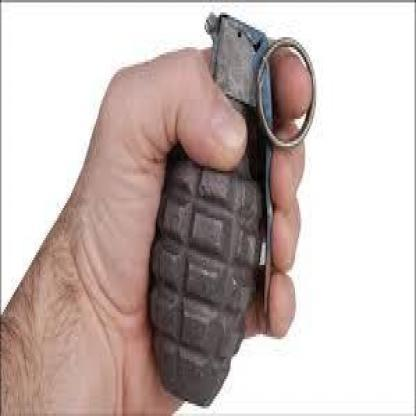Grenade: (146, 8, 316, 406)
